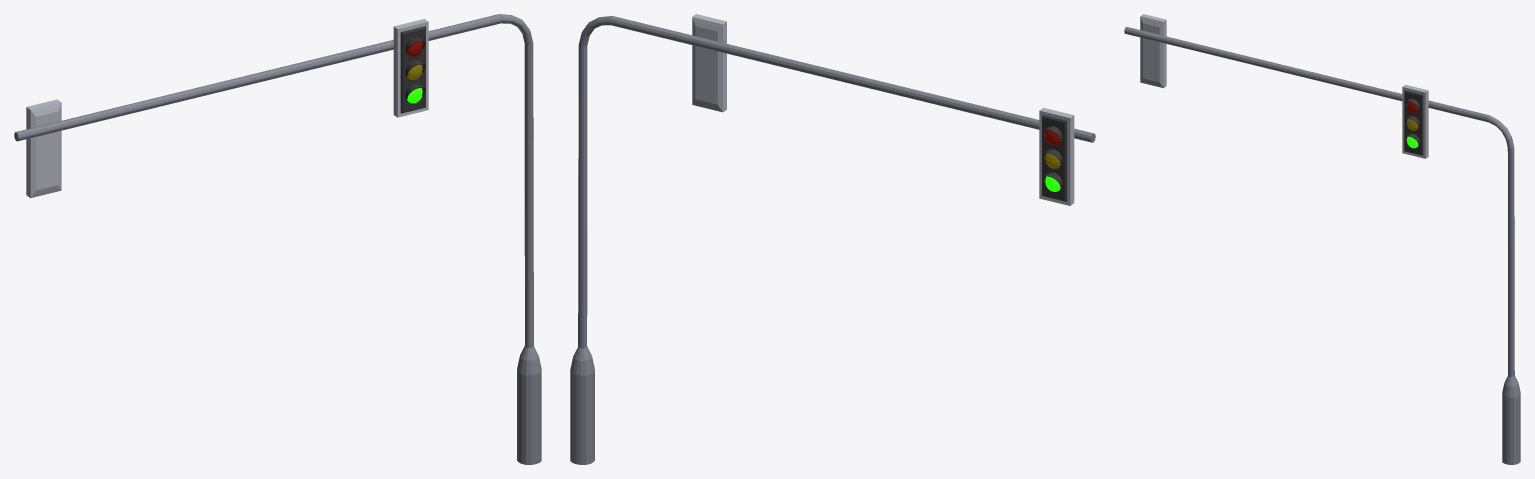
The model's file is City_TrafficLight.fbx.
The picture shows the model from 3 angles, left to right: view 1: azimuth 30°, elevation 25°; view 2: azimuth 150°, elevation 25°; view 3: azimuth 330°, elevation 25°; orthographic projection. The views are drawn at different scales.
Visible parts, largest first — view 1: Traffic_Light; view 2: Traffic_Light; view 3: Traffic_Light.
Boxes of the visible parts, x1,y1,x2,y2 form: Traffic_Light: [14, 14, 541, 464]; Traffic_Light: [570, 14, 1095, 464]; Traffic_Light: [1124, 14, 1520, 464].
Size of the model in its own units: 4.75 by 4.07 by 0.3953.
